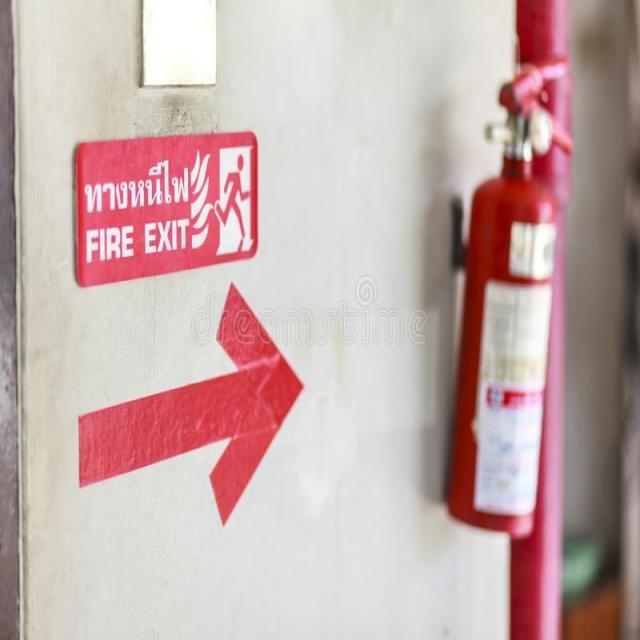fire_extinguisher: (434, 48, 584, 545)
